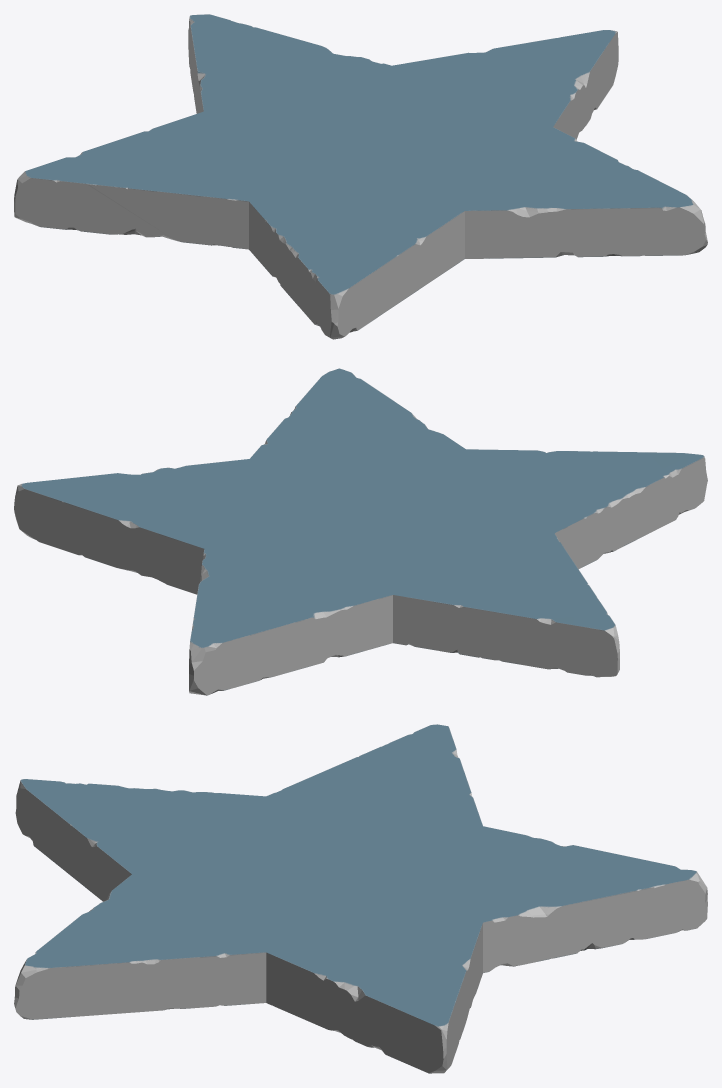
File: stage_star.obj
3 views of the same model, one above another, from view 1: azimuth 30°, elevation 25°; view 2: azimuth 150°, elevation 25°; view 3: azimuth 270°, elevation 25° (orthographic). The views are drawn at different scales.
Visible parts, largest first — view 1: stage_star.001; view 2: stage_star.001; view 3: stage_star.001.
Boxes of the visible parts, box(x1,y1,x2,y2) form: stage_star.001: box(14, 14, 707, 339); stage_star.001: box(14, 368, 707, 695); stage_star.001: box(14, 724, 707, 1073).
Size of the model in its own units: 45.3 by 3.46 by 42.92.
1 material, 1 textured.
